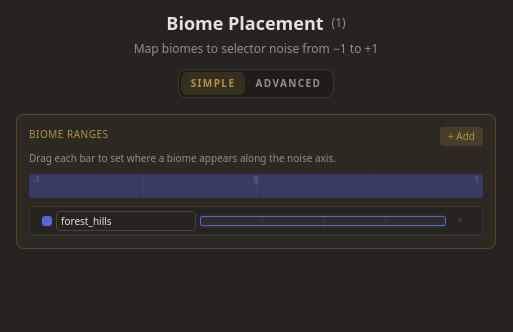
BiomeRangeEditor › adding a biome range increases list count
This screenshot has width=513, height=332.
Expected: the field showing "forest_hills" is shown, [56,211,196,231]
Click the button "+ Add" at (462, 136), box [440,127,483,146]
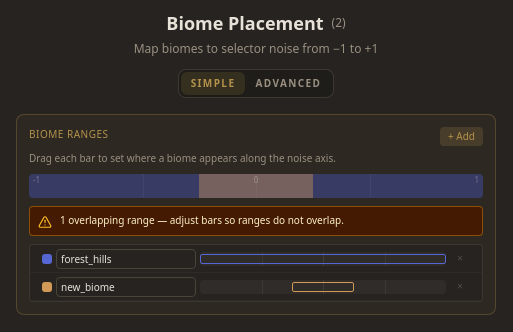
Expected: the 2nd field showing "new_biome" is shown, [56,277,196,297]
